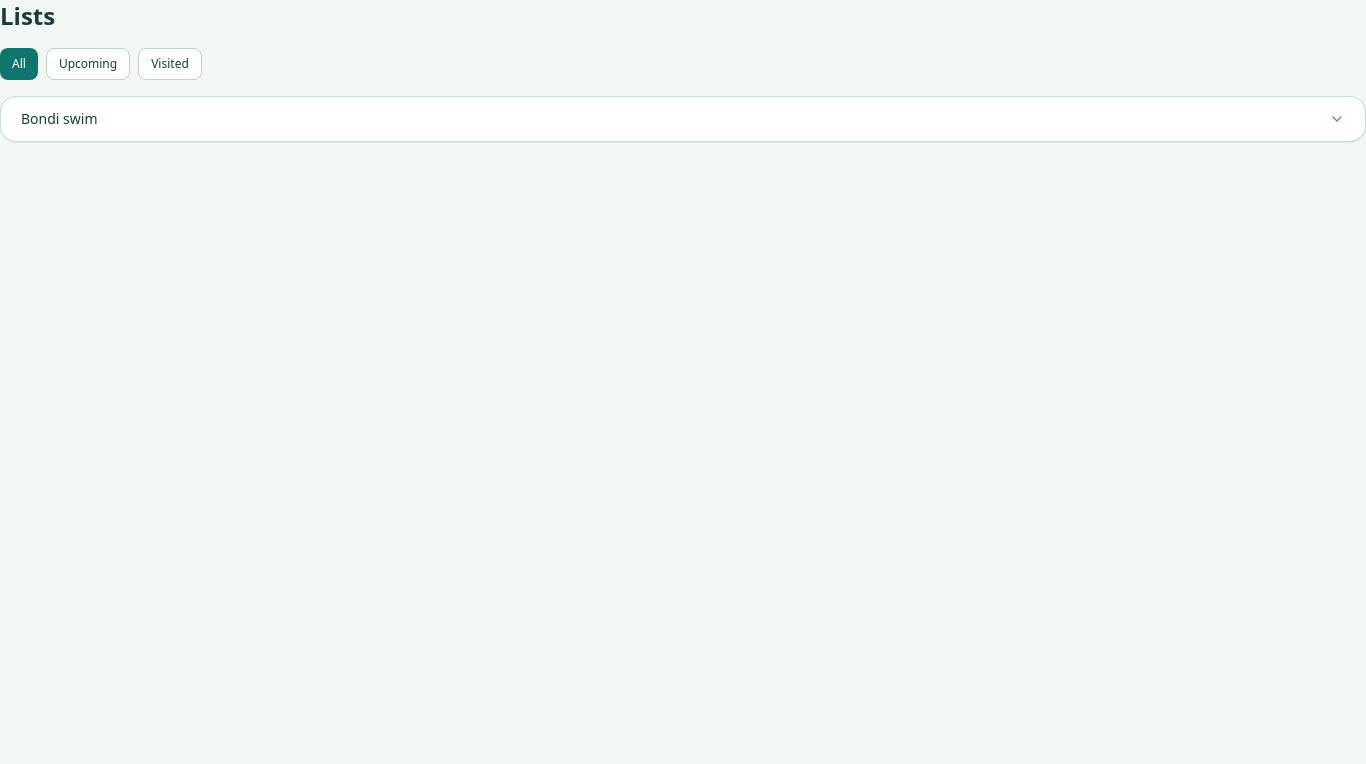
Test: ItemListClient › opens and collapses the activity form from the card
Check: the button with test id "list-filter-all" is shown, box x1=0 y1=48 x2=38 y2=80
Check: the button with test id "list-filter-upcoming" is shown, box x1=46 y1=48 x2=130 y2=80
Click the button with test id "item-open-i1". click: (59,118)
box: x1=17 y1=109 x2=1349 y2=129
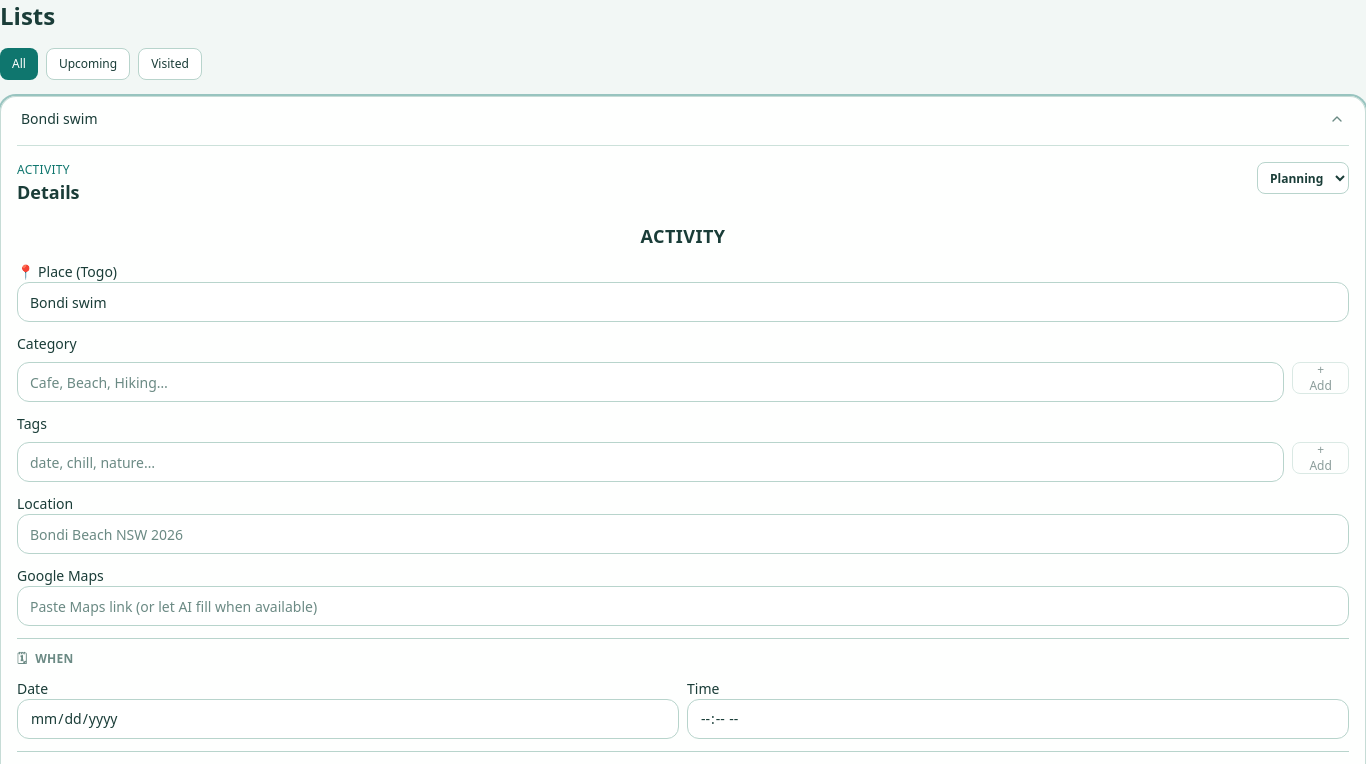
Check: the dropdown with test id "item-status-i1" is shown, box x1=1257 y1=162 x2=1349 y2=194
Click the button with test id "item-open-i1". click: (59,118)
box: x1=17 y1=109 x2=1349 y2=129
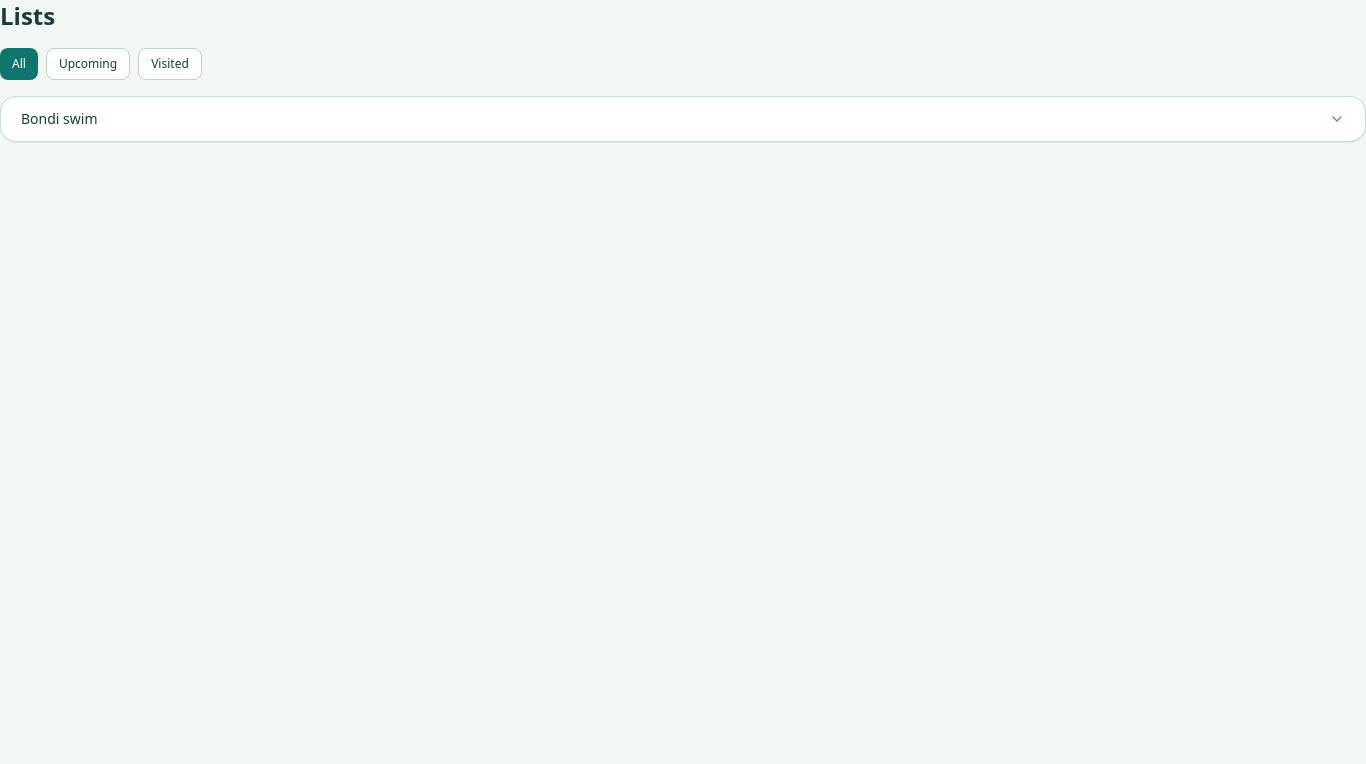
Check: the dropdown with test id "item-status-i1" is gone
